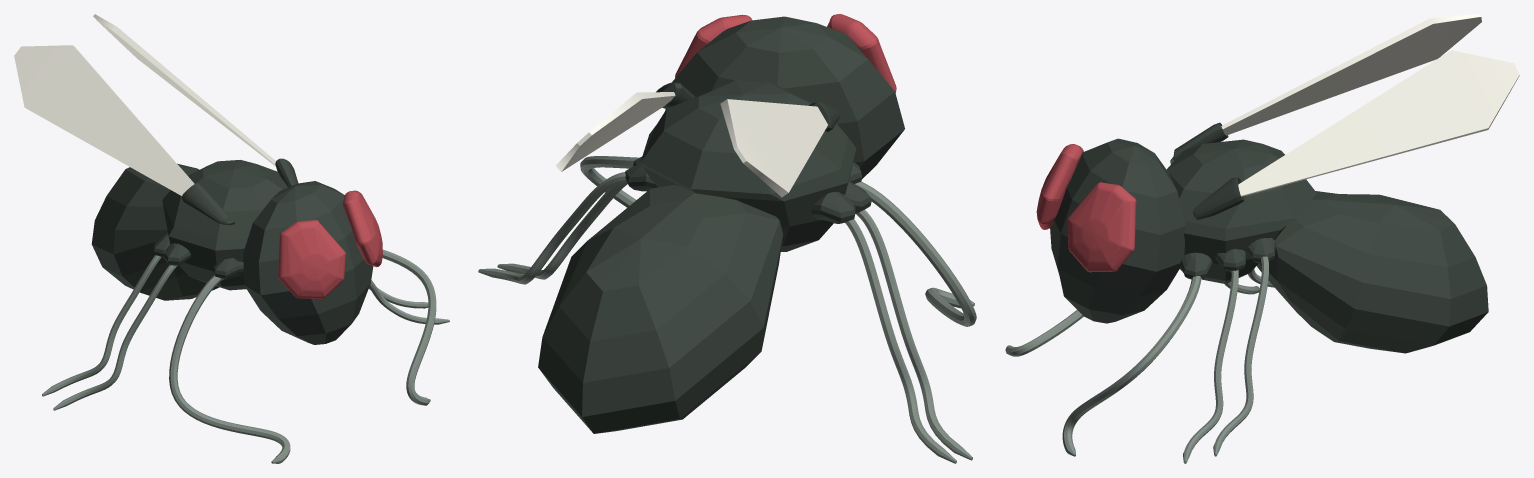
File: Fly.gltf
3 renders of one model, left to right at view 1: azimuth 30°, elevation 25°; view 2: azimuth 150°, elevation 25°; view 3: azimuth 270°, elevation 25°, orthographic. The views are drawn at different scales.
Parts seen in each view (by area): view 1: curve1; view 2: curve1; view 3: curve1.
Part boxes in pixels (x1,y1,x2,y2): curve1: (14,14,449,463); curve1: (478,14,976,463); curve1: (1005,14,1519,463).
Size of the model in its own units: 0.9309 by 0.7111 by 1.01.
